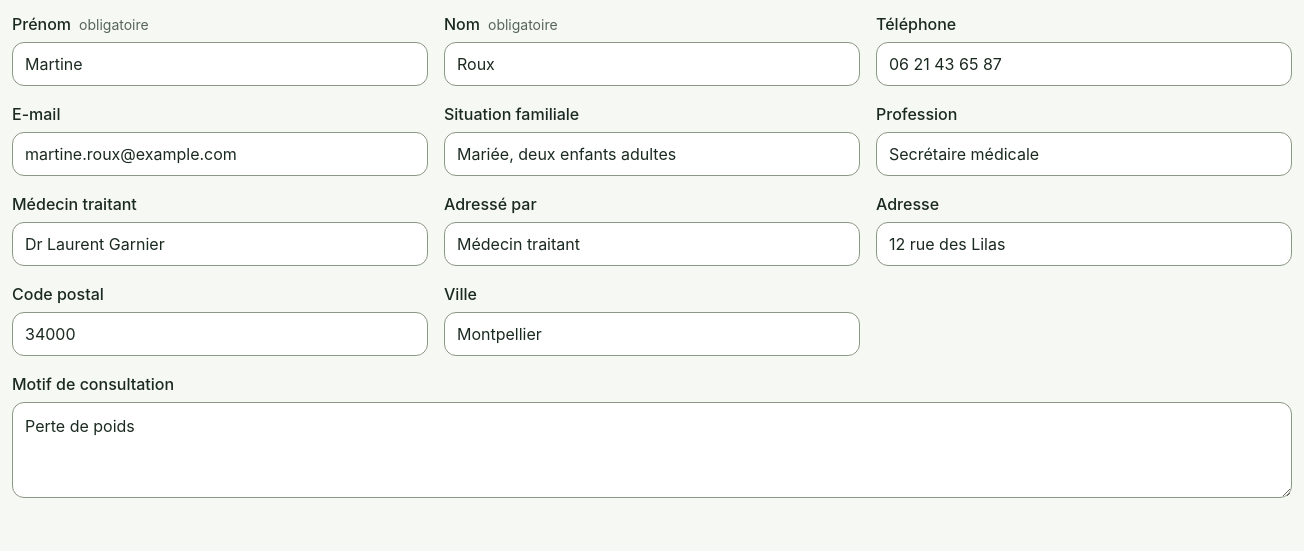
Test case: PatientIdentityForm › saves a field when leaving it
Replace the text in the field labelled "Téléphone" with "06 11 22 33 44" at (1084, 64), box [876,42,1292,86]
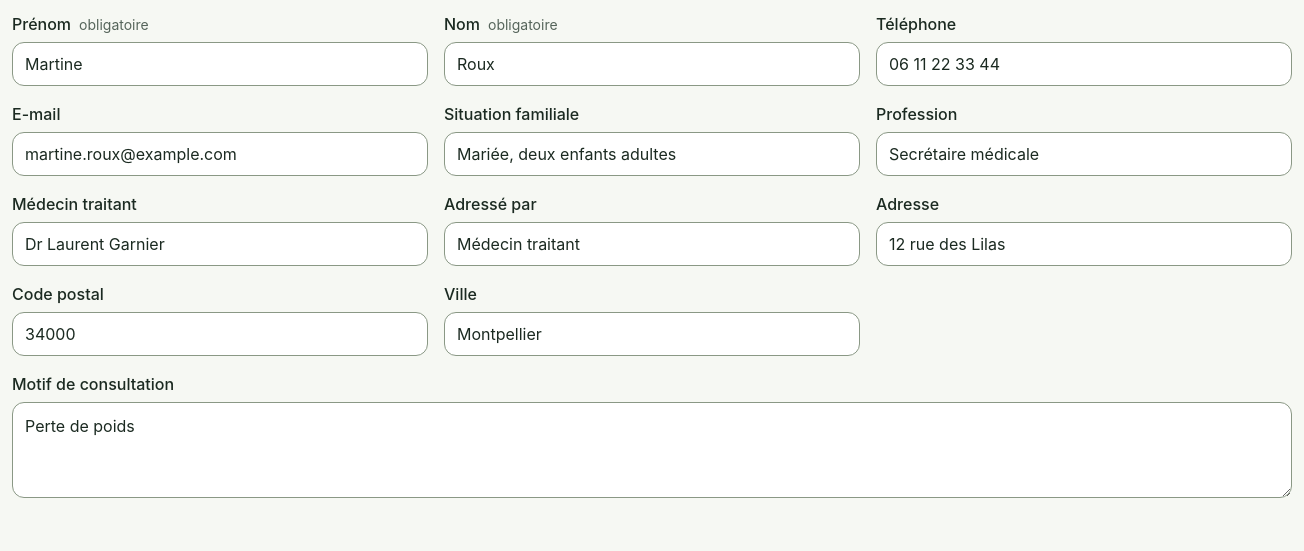
Leave the field labelled "Téléphone", box [876,42,1292,86]
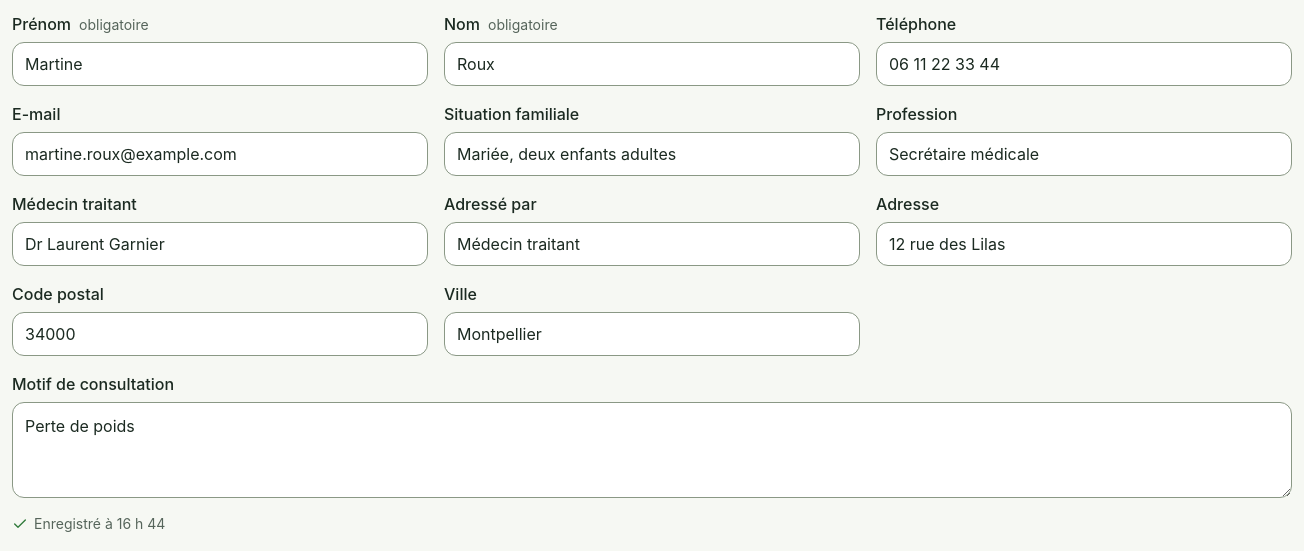
Now the text "Enregistré à 16 h 44" is shown, box [12,514,165,534]
